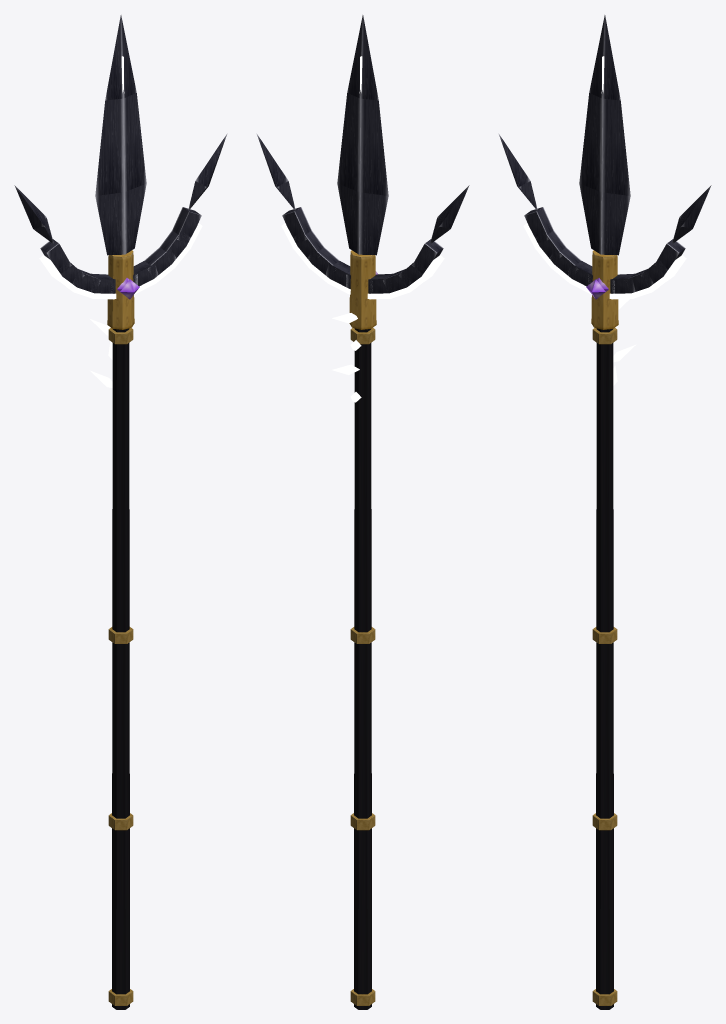
The model's file is MoonSpear.fbx.
3 views of the same model, side by side, from view 1: azimuth 30°, elevation 25°; view 2: azimuth 150°, elevation 25°; view 3: azimuth 330°, elevation 25° (orthographic).
Visible parts, largest first — view 1: Head, Handle, Glow; view 2: Head, Handle, Glow; view 3: Head, Handle, Glow.
Part boxes in pixels (x1,y1,x2,y2): Head: [14, 15, 227, 329]; Handle: [108, 328, 133, 1009]; Glow: [39, 56, 202, 387]; Head: [256, 15, 469, 329]; Handle: [350, 328, 375, 1009]; Glow: [281, 56, 444, 402]; Head: [498, 15, 711, 329]; Handle: [592, 328, 617, 1009]; Glow: [523, 56, 686, 385].
Size of the model in its own units: 216 by 960 by 59.83.
2 materials, 1 textured.
